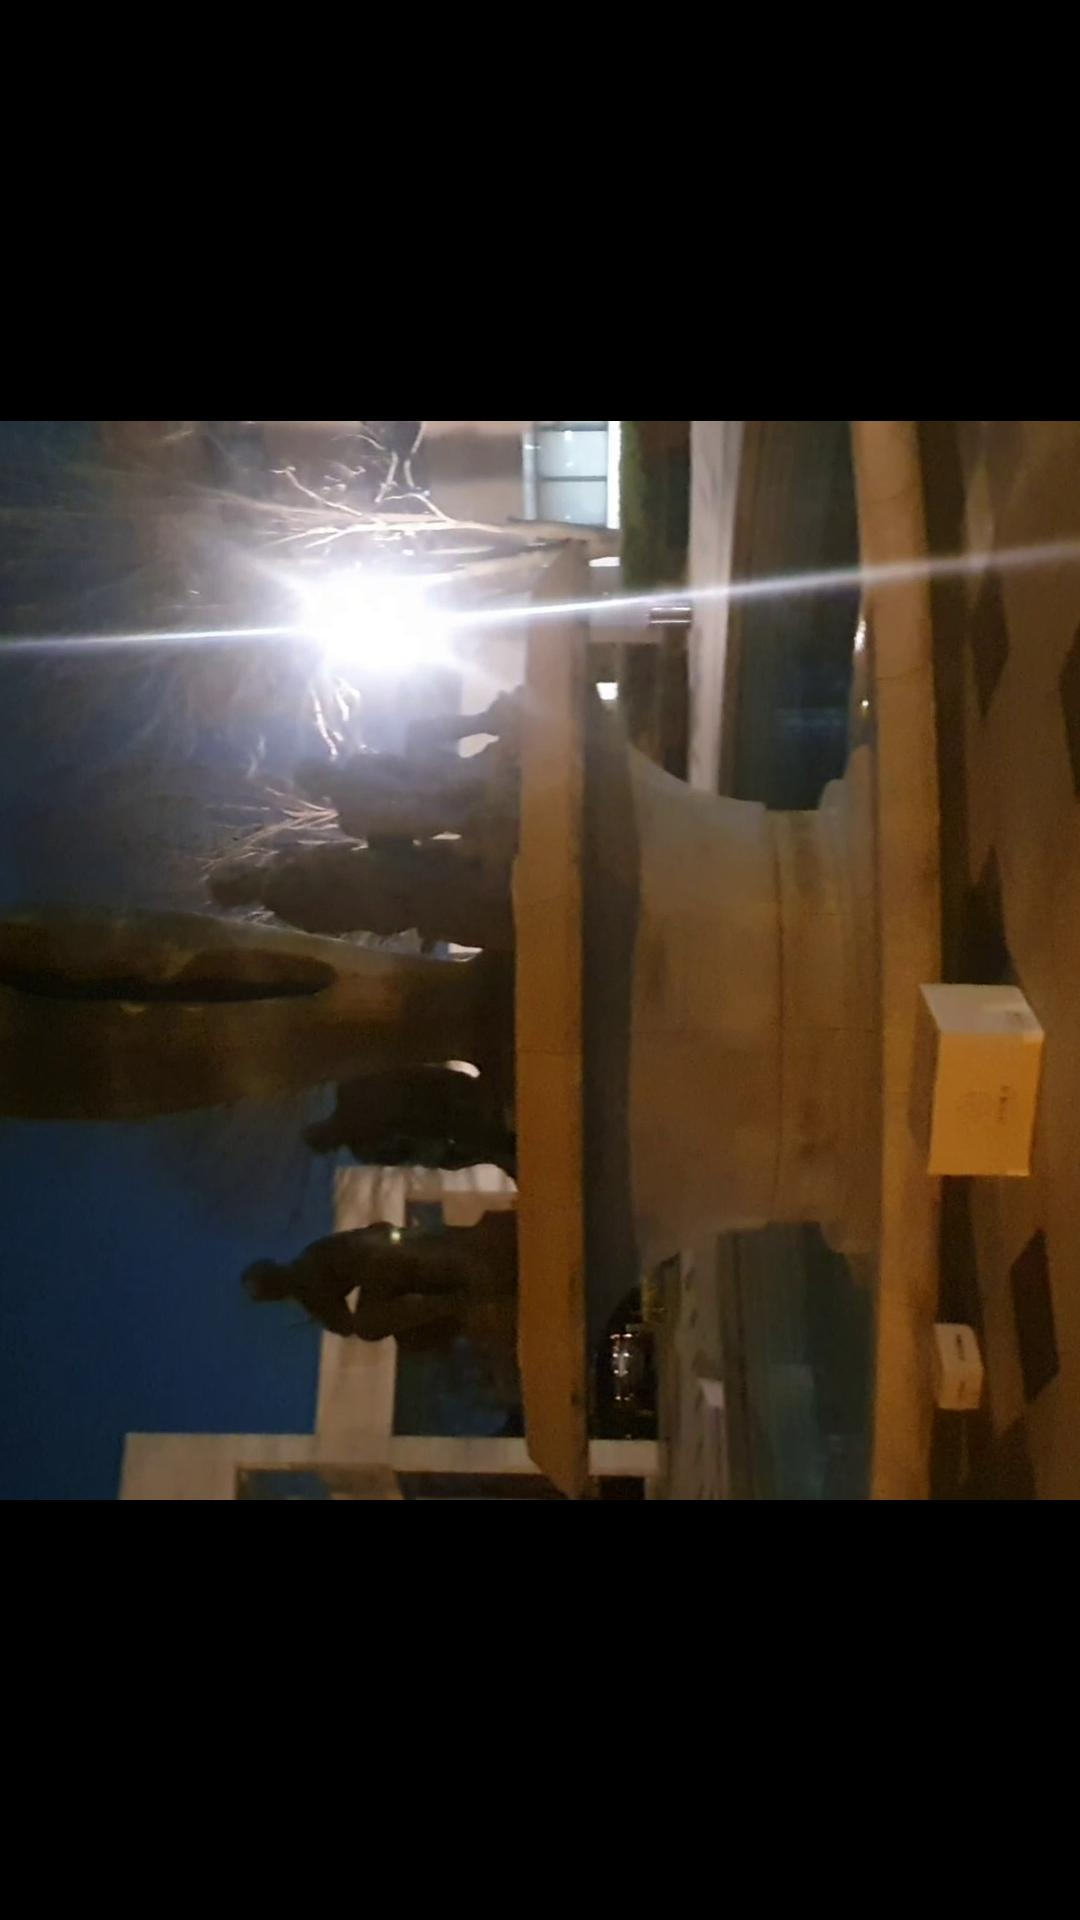Box: (890, 968, 1052, 1197), (910, 1313, 992, 1427)
